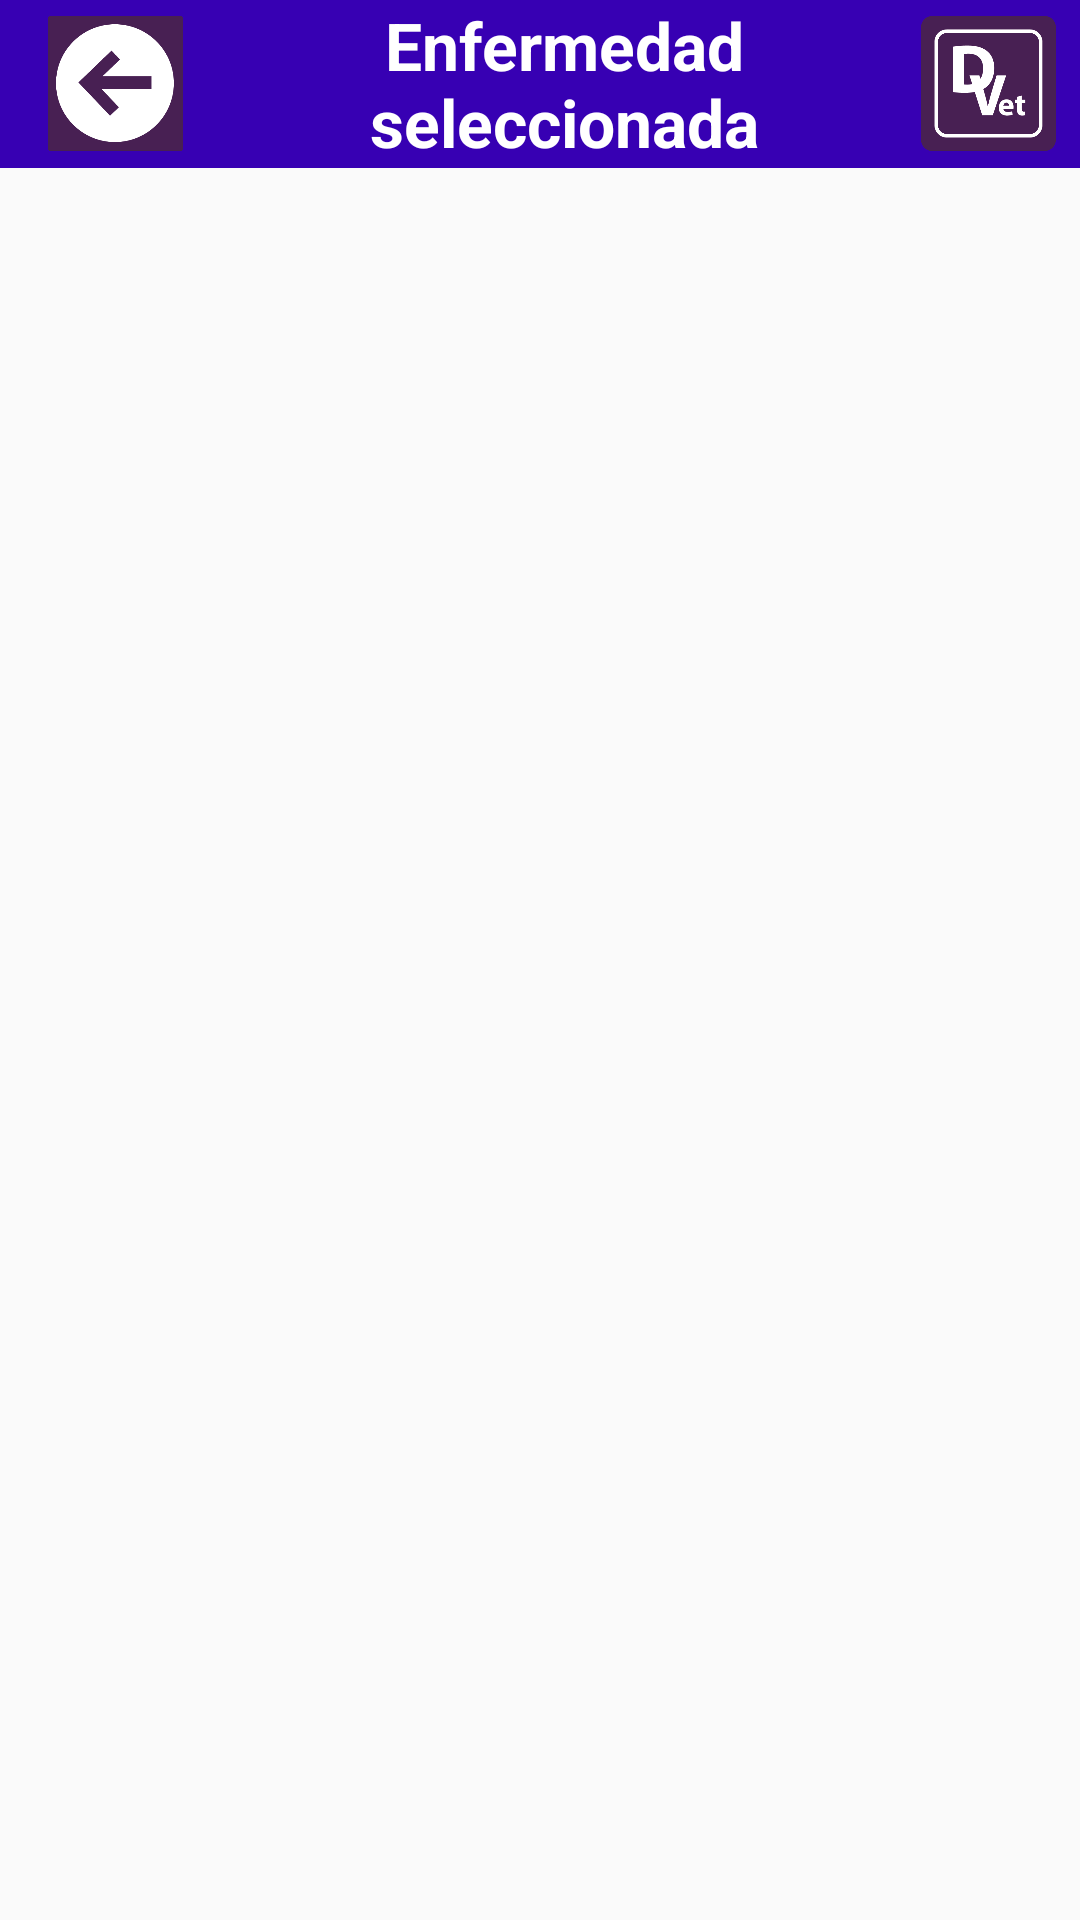

Screen size 1080px×1920px. Icon name, then its box in pixels as (x1, y1, x2, y2):
back: (48, 16, 183, 151)
